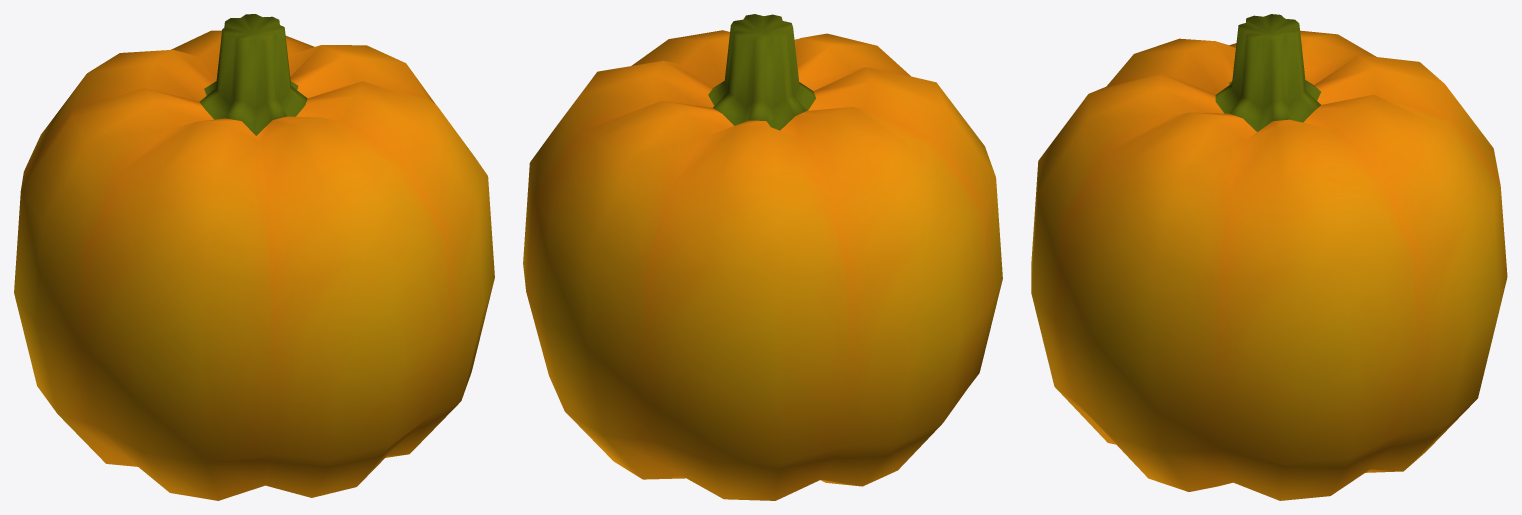
File: pumpkin.fbx
3 views of the same model, side by side, from view 1: azimuth 30°, elevation 25°; view 2: azimuth 150°, elevation 25°; view 3: azimuth 270°, elevation 25° (orthographic).
Parts seen in each view (by area): view 1: Cylinder; view 2: Cylinder; view 3: Cylinder.
Part boxes in pixels (x1,y1,x2,y2): Cylinder: (14, 14, 494, 500); Cylinder: (523, 14, 1002, 500); Cylinder: (1031, 14, 1507, 500).
Size of the model in its own units: 207 by 200 by 205.
1 material, 1 textured.
